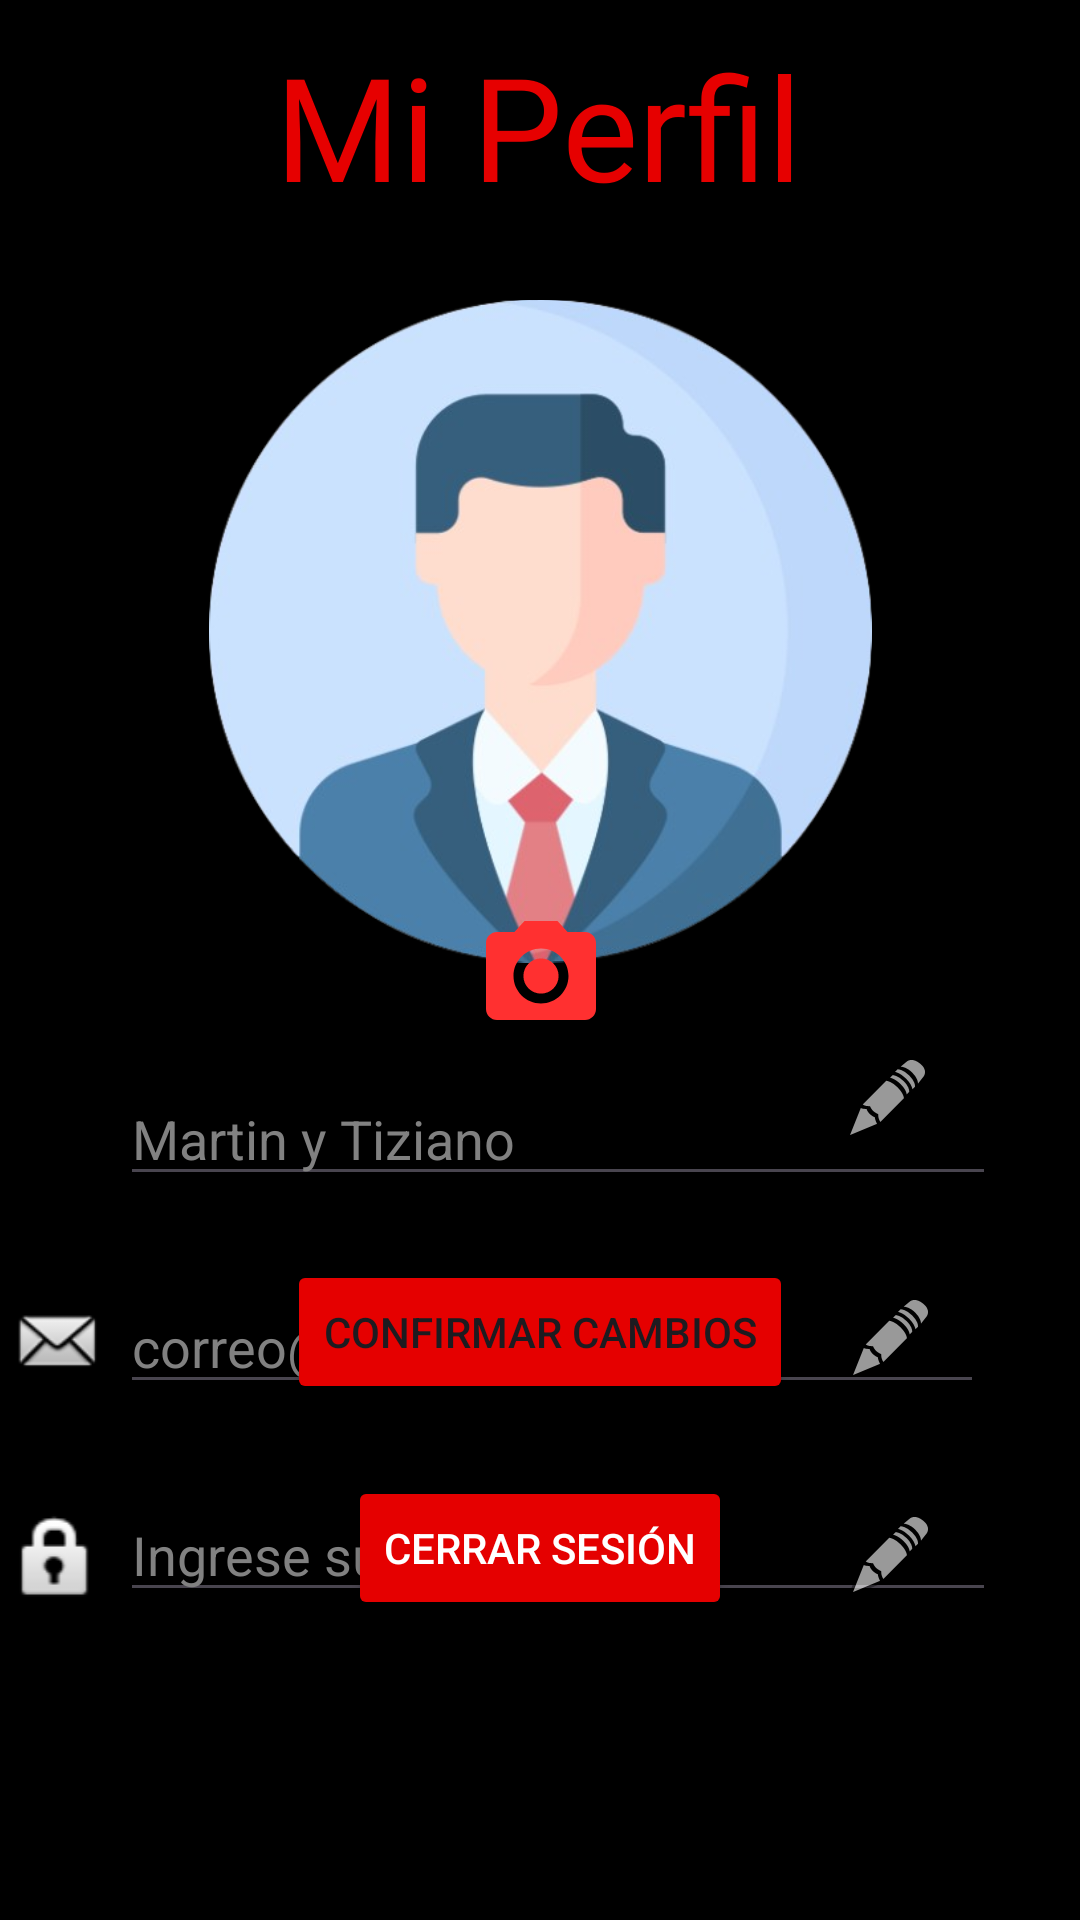

Screen size 1080*1920. Icon name, then its center in pixels as (x,y):
lock idle: (54,1556)
photo camera: (540,976)
sym action email: (57,1340)
